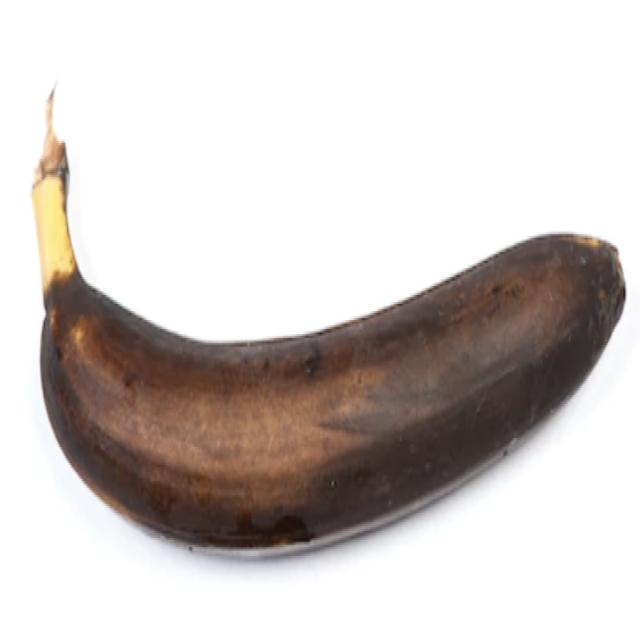rotten-banana: (29, 79, 626, 556)
